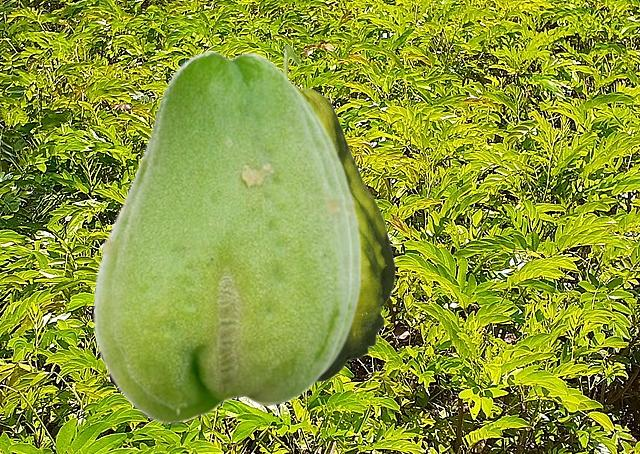sayote: (91, 49, 352, 423), (282, 44, 395, 404), (296, 84, 361, 376)
